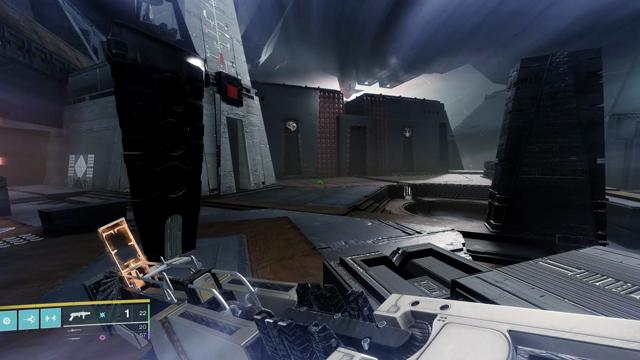brain: (285, 120, 298, 132)
drink: (403, 127, 412, 138)
stop: (224, 80, 240, 103)
